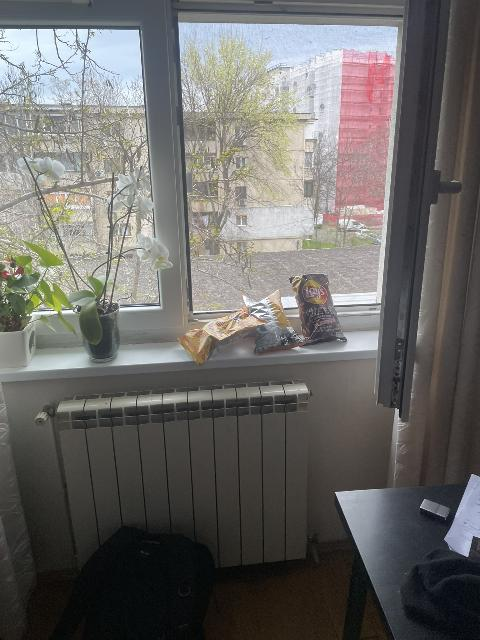Chio Cascaval 125g: (243, 292, 300, 353)
Chio Hula Hoops Cheese 70g: (180, 303, 265, 365)
Lays Beef Grilled Ribs 125g: (291, 273, 350, 347)
